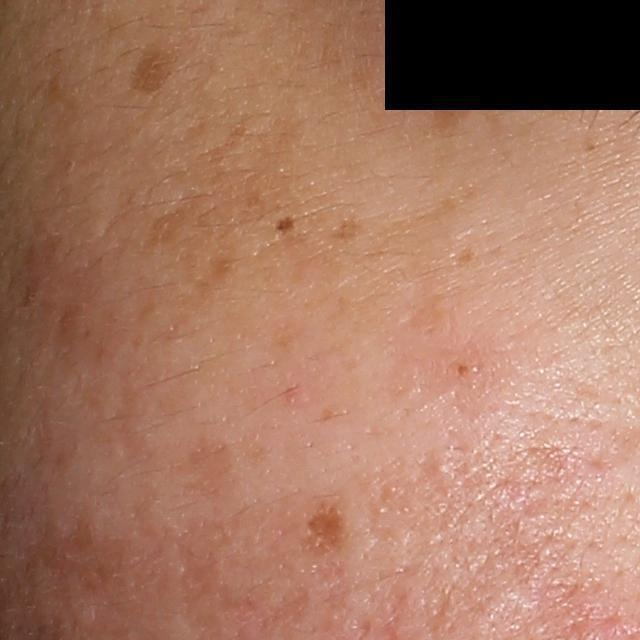comedo: (431, 457, 450, 480)
melasma: (143, 122, 320, 307), (364, 181, 481, 260), (301, 499, 356, 567), (425, 80, 482, 144), (131, 43, 177, 97), (332, 215, 367, 241), (450, 245, 481, 270)
nevus: (271, 216, 295, 232)
